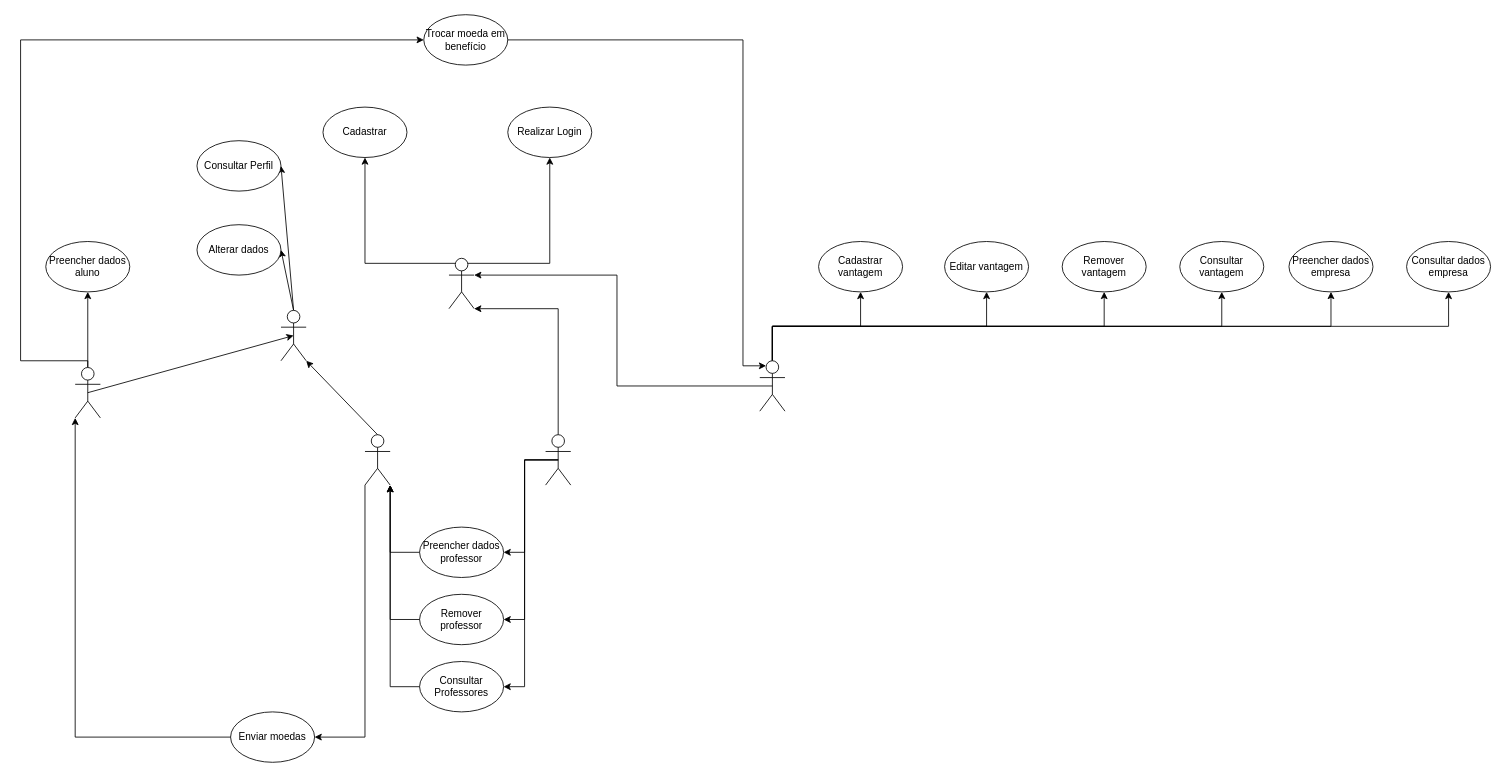
Image size: 1505x777. Some labels were removed from this diagram. Here are the shapes that lost their labels. From the top down, the centre of each, then its label:
At pixel 461 283: "Usuário".
At pixel 293 335: "Usuário cpf".
At pixel 87 392: "Aluno".
At pixel 772 385: "Empresas Parceiras".
At pixel 377 459: "Professor".
At pixel 558 459: "Instituição".
